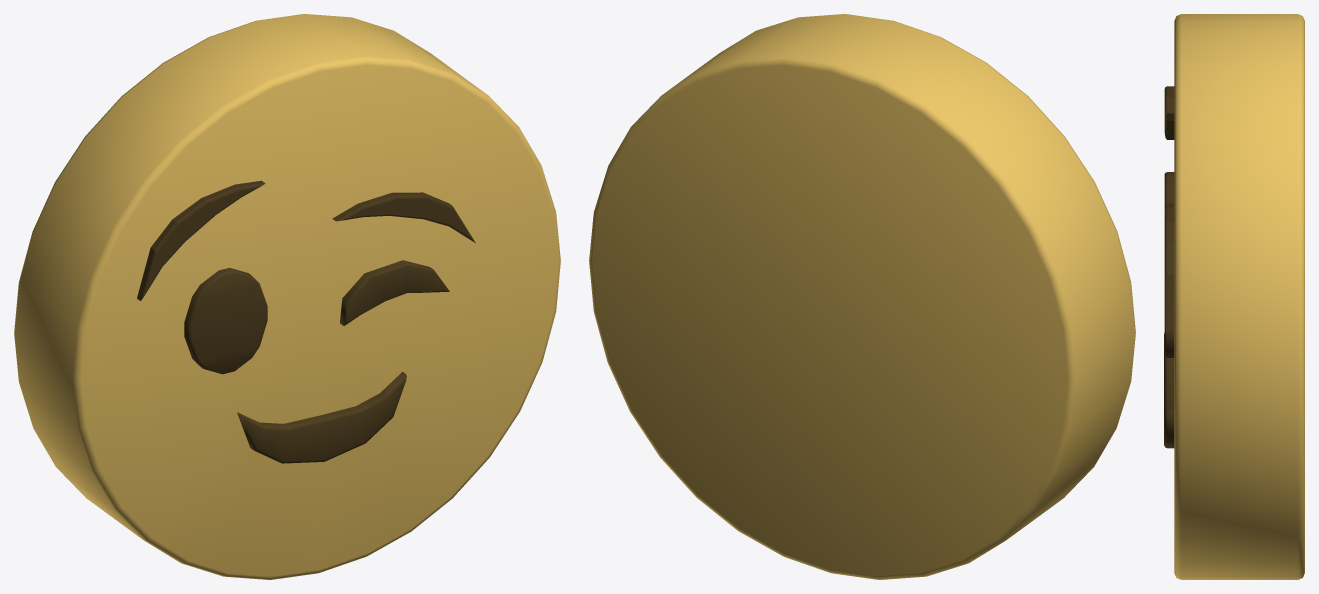
Rendered from emoticon.fbx.
3 views of the same model, side by side, from view 1: azimuth 30°, elevation 25°; view 2: azimuth 150°, elevation 25°; view 3: azimuth 270°, elevation 25° (orthographic).
Parts seen in each view (by area): view 1: emoticon1; view 2: emoticon1; view 3: emoticon1.
Part boxes in pixels (bbox=[...]): emoticon1: bbox=[14, 14, 560, 579]; emoticon1: bbox=[589, 14, 1135, 579]; emoticon1: bbox=[1164, 14, 1304, 579].
Bounding box in the file's own units: 86.86 × 86.86 × 21.6.
